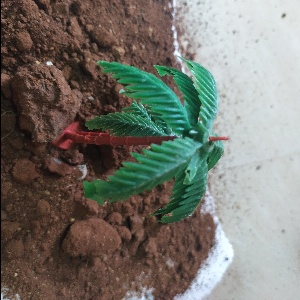plant: (57, 57, 234, 226)
